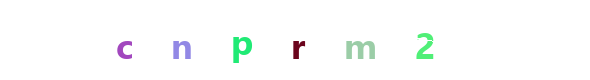2: (310, 0, 390, 80)
C: (105, 0, 185, 80)
M: (285, 0, 365, 80)
N: (136, 0, 216, 80)
P: (255, 0, 335, 80)
R: (257, 0, 337, 80)
